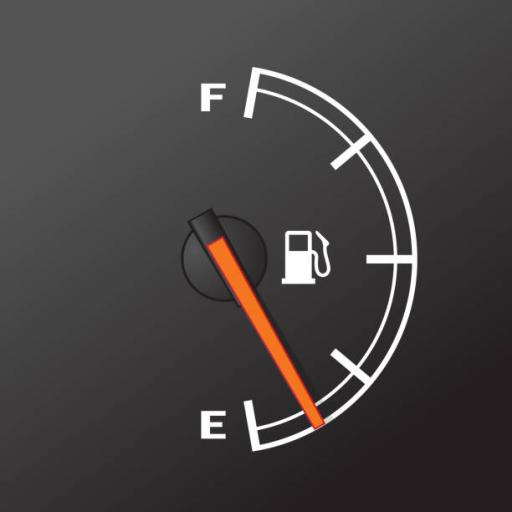empty: (194, 400, 230, 448)
fuel_icon: (282, 220, 336, 289)
full: (190, 76, 236, 116)
guage_area: (150, 57, 428, 461)
needle_center: (172, 202, 275, 310)
needle_tip: (292, 399, 341, 434)
